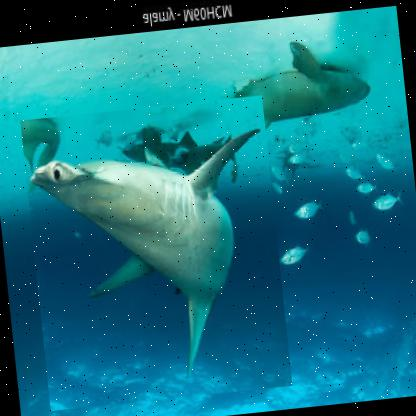hammerhead_Shark: (20, 93, 293, 410)
